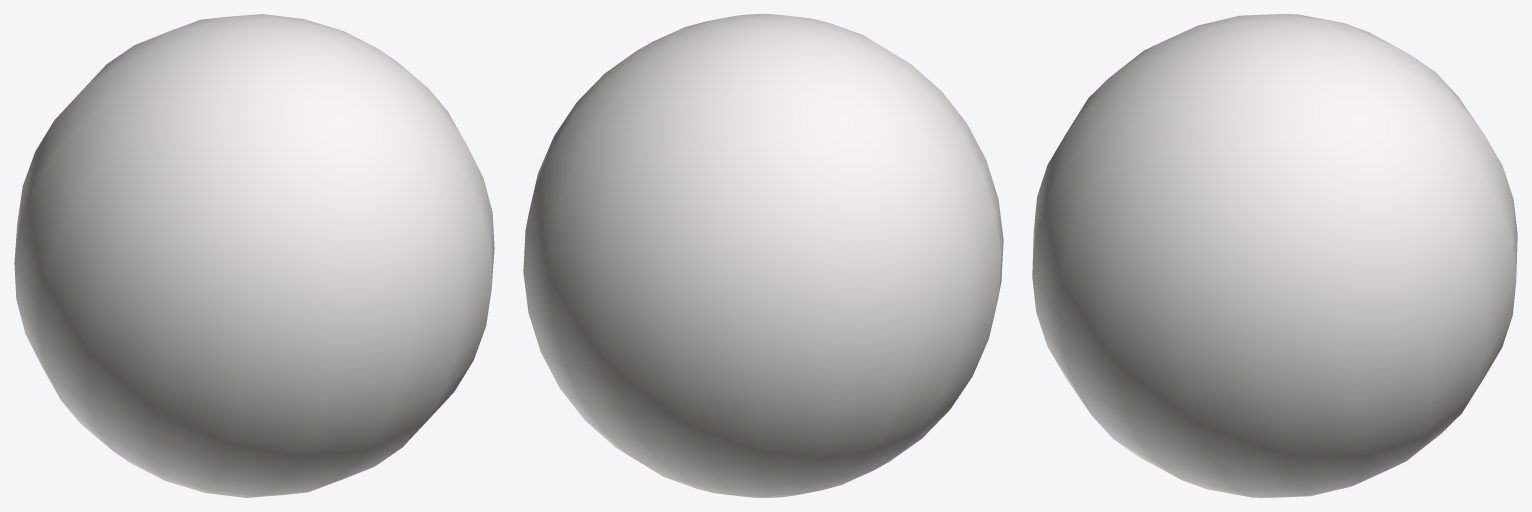
File: white-ball.glb
3 views of the same model, side by side, from view 1: azimuth 30°, elevation 25°; view 2: azimuth 150°, elevation 25°; view 3: azimuth 270°, elevation 25° (orthographic).
Parts seen in each view (by area): view 1: PoolBall_White; view 2: PoolBall_White; view 3: PoolBall_White.
Part boxes in pixels (box(x1,y1,x2,y2)): PoolBall_White: box(14, 14, 494, 497); PoolBall_White: box(523, 14, 1003, 497); PoolBall_White: box(1032, 14, 1517, 497).
Bounding box in the file's own units: 0.2369 × 0.2367 × 0.2367.
Materials: 1 (1 with a texture image).
